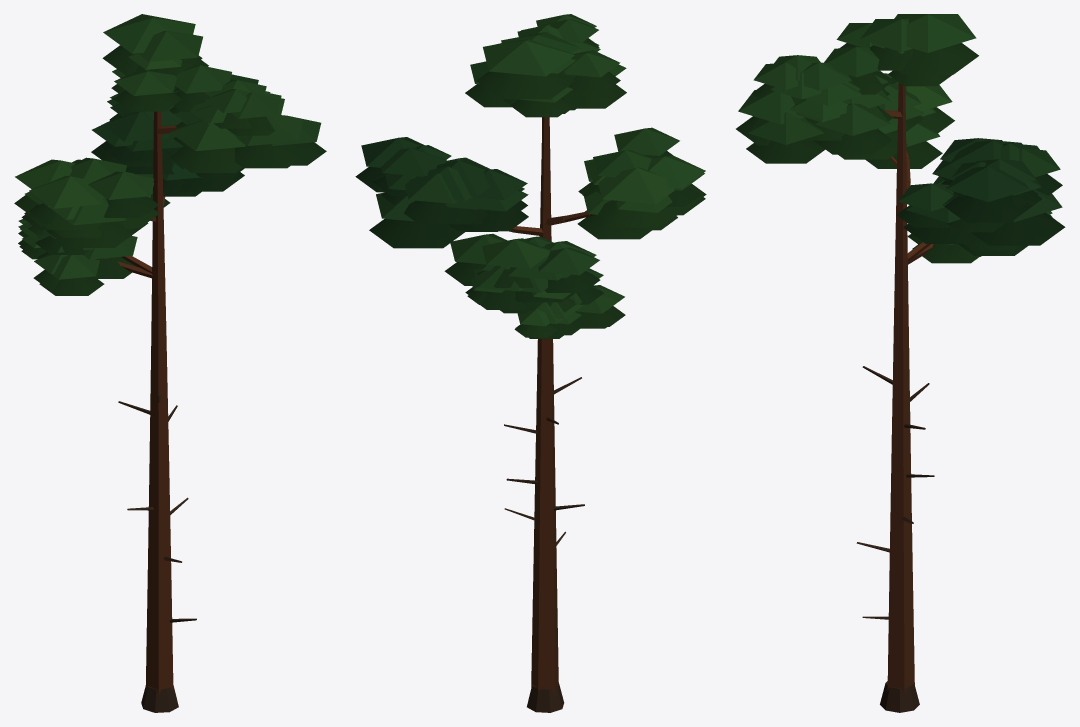
File: tree_pine_2_mid.glb
3 renders of one model, left to right at view 1: azimuth 30°, elevation 25°; view 2: azimuth 150°, elevation 25°; view 3: azimuth 270°, elevation 25°, orthographic. The views are drawn at different scales.
Visible parts, largest first — view 1: leaf, wood; view 2: leaf, wood; view 3: leaf, wood.
Boxes of the visible parts, bbox=[...] form: leaf: bbox=[14, 14, 326, 295]; wood: bbox=[104, 111, 196, 712]; leaf: bbox=[355, 14, 706, 338]; wood: bbox=[504, 117, 594, 712]; leaf: bbox=[736, 14, 1065, 263]; wood: bbox=[856, 72, 934, 712].
Size of the model in its own units: 6.9 by 16.02 by 6.91.
